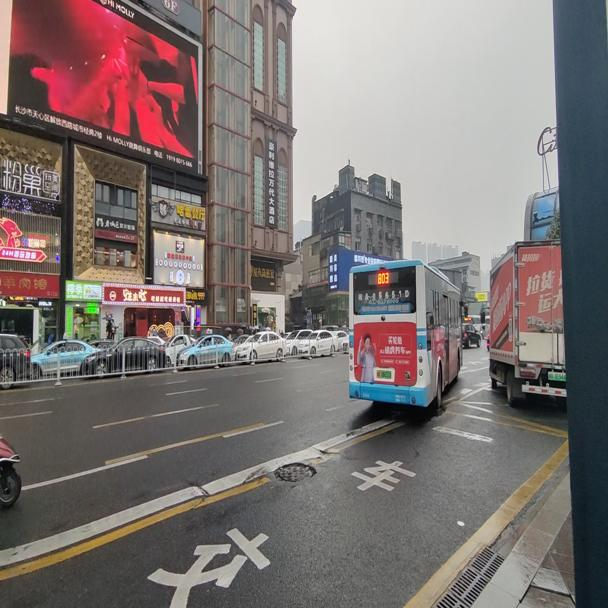bus: (348, 257, 468, 414)
screen: (377, 271, 389, 284)
